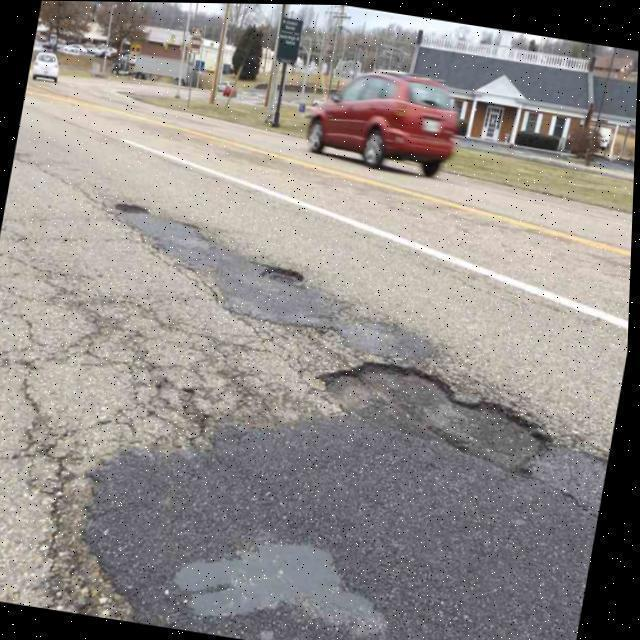Pothole: (321, 362, 549, 472), (260, 265, 304, 283), (115, 202, 149, 213)
